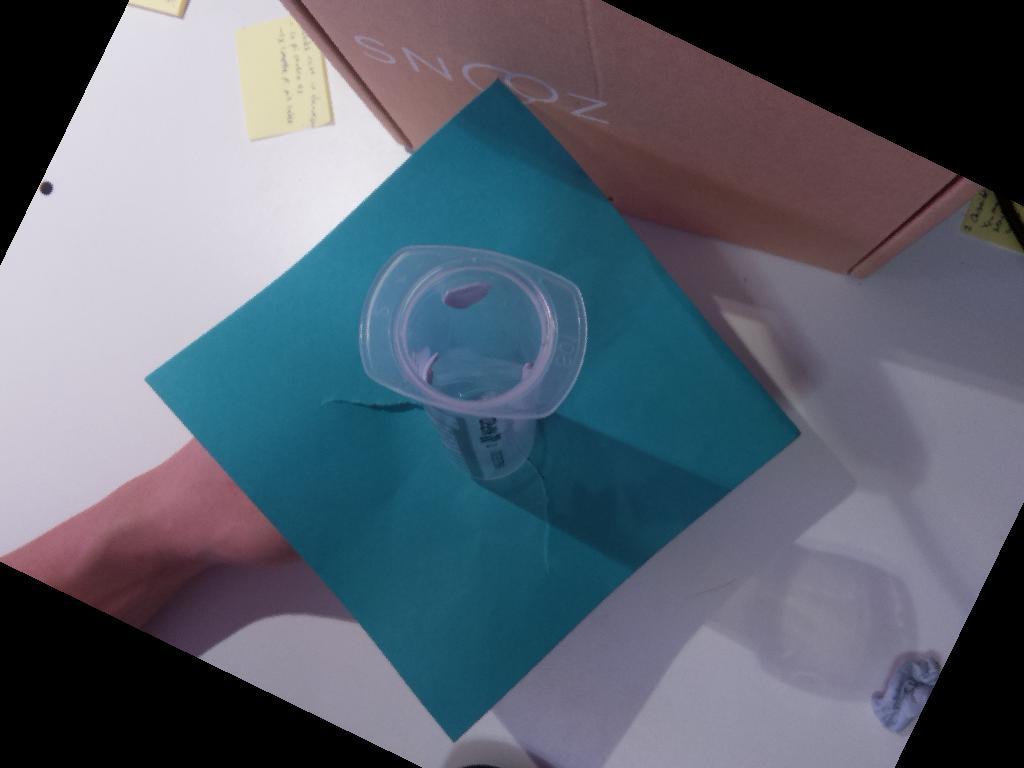dirty: (358, 244, 588, 419)
